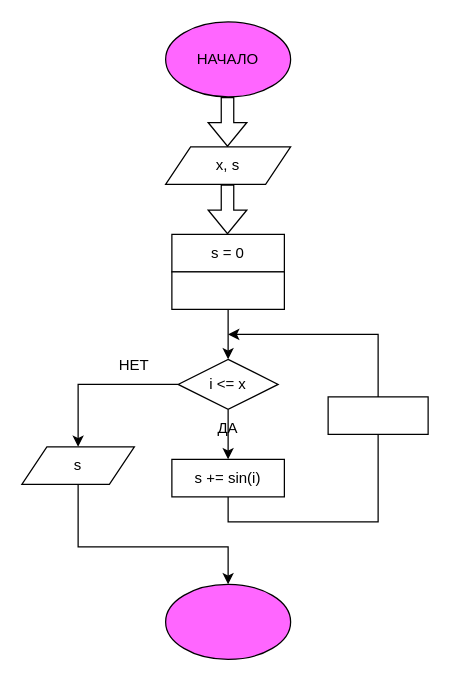
Image size: 450x681. Some labels were removed from this diagram. The shapes that lost their labels are listed below. From the top down, each one's centre as x and y in pixels, then its label:
At pixel 227 290: "i = 1".
At pixel 377 415: "i += 0.1".
At pixel 227 621: "КОНЕЦ".
